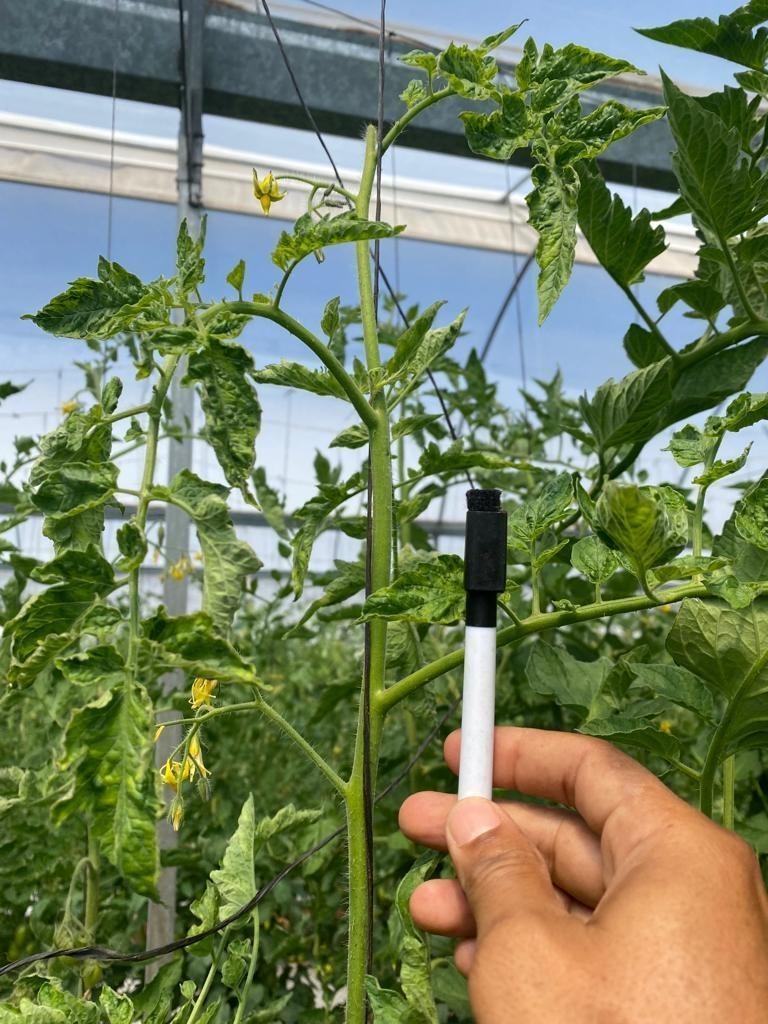Rugose leaf: (52, 680, 160, 896), (366, 852, 440, 1024), (184, 338, 262, 497), (10, 550, 114, 661), (596, 482, 690, 591), (24, 258, 148, 337), (526, 164, 580, 323), (272, 212, 404, 273), (358, 554, 464, 625), (30, 412, 112, 485), (530, 44, 638, 90), (578, 100, 664, 157), (460, 94, 532, 160), (32, 462, 118, 516), (510, 472, 572, 546), (438, 44, 498, 100), (38, 978, 100, 1024), (44, 504, 103, 551), (734, 472, 768, 550), (546, 98, 582, 141), (100, 984, 132, 1024)
Rugose stem: (256, 692, 346, 795)
